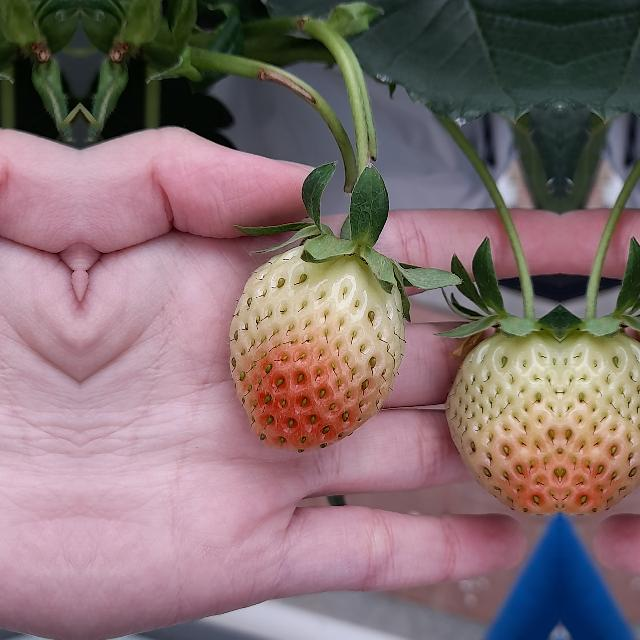Health_50: (229, 245, 405, 452)
